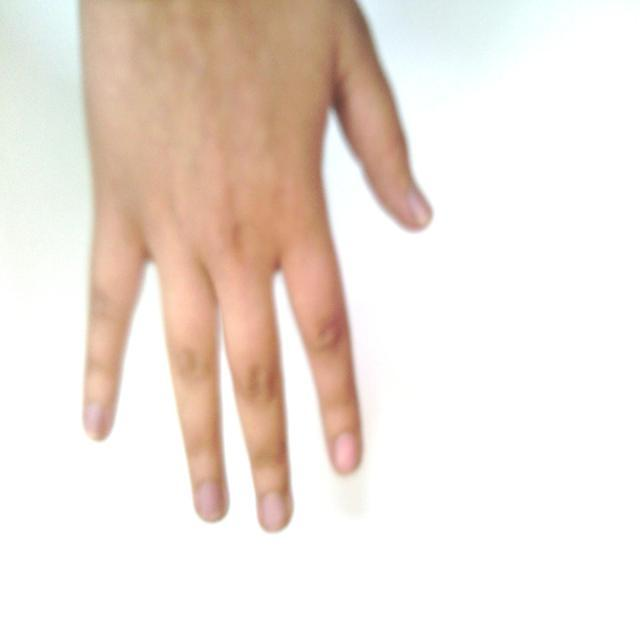Fingernail: (197, 482, 223, 521), (263, 494, 286, 531), (336, 434, 357, 473), (409, 188, 431, 222), (85, 405, 104, 437)
